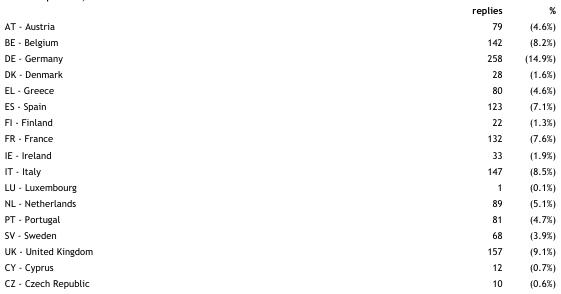table: (3, 3, 554, 287)
table column: (3, 3, 281, 287), (281, 3, 512, 287), (512, 3, 554, 287)
table column header: (3, 3, 554, 17)
table row: (3, 97, 554, 114), (3, 17, 554, 33), (3, 33, 554, 49), (3, 49, 554, 65), (3, 65, 554, 81), (3, 81, 554, 97), (3, 114, 554, 130), (3, 130, 554, 146), (3, 146, 554, 162), (3, 162, 554, 178), (3, 178, 554, 194), (3, 194, 554, 210), (3, 210, 554, 226), (3, 226, 554, 242), (3, 242, 554, 258), (3, 258, 554, 274), (3, 3, 554, 17), (3, 274, 554, 287)
